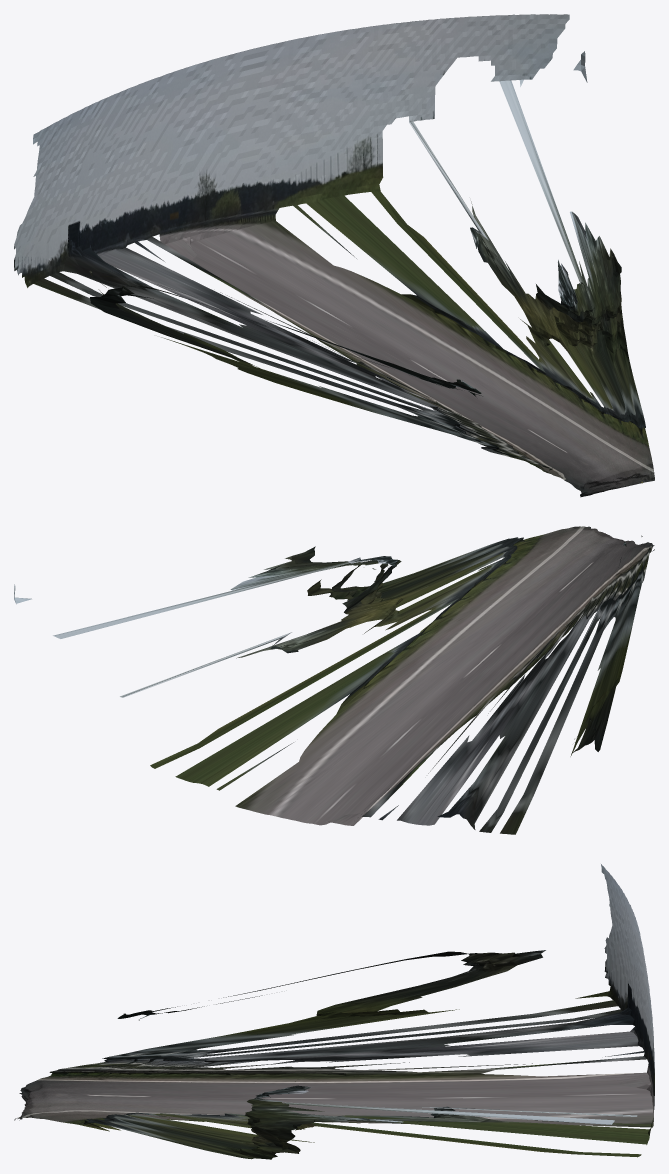
3 views of the same model, one above another, from view 1: azimuth 30°, elevation 25°; view 2: azimuth 150°, elevation 25°; view 3: azimuth 270°, elevation 25° (orthographic). The views are drawn at different scales.
Visible parts, largest first — view 1: defaultobject; view 2: defaultobject; view 3: defaultobject.
Boxes of the visible parts, x1=… form: defaultobject: x1=14, y1=14, x2=654, y2=497; defaultobject: x1=14, y1=526, x2=654, y2=834; defaultobject: x1=14, y1=864, x2=654, y2=1159.
Bounding box in the file's own units: 38.44 × 12.1 × 44.64.
Materials: 1 (1 with a texture image).
